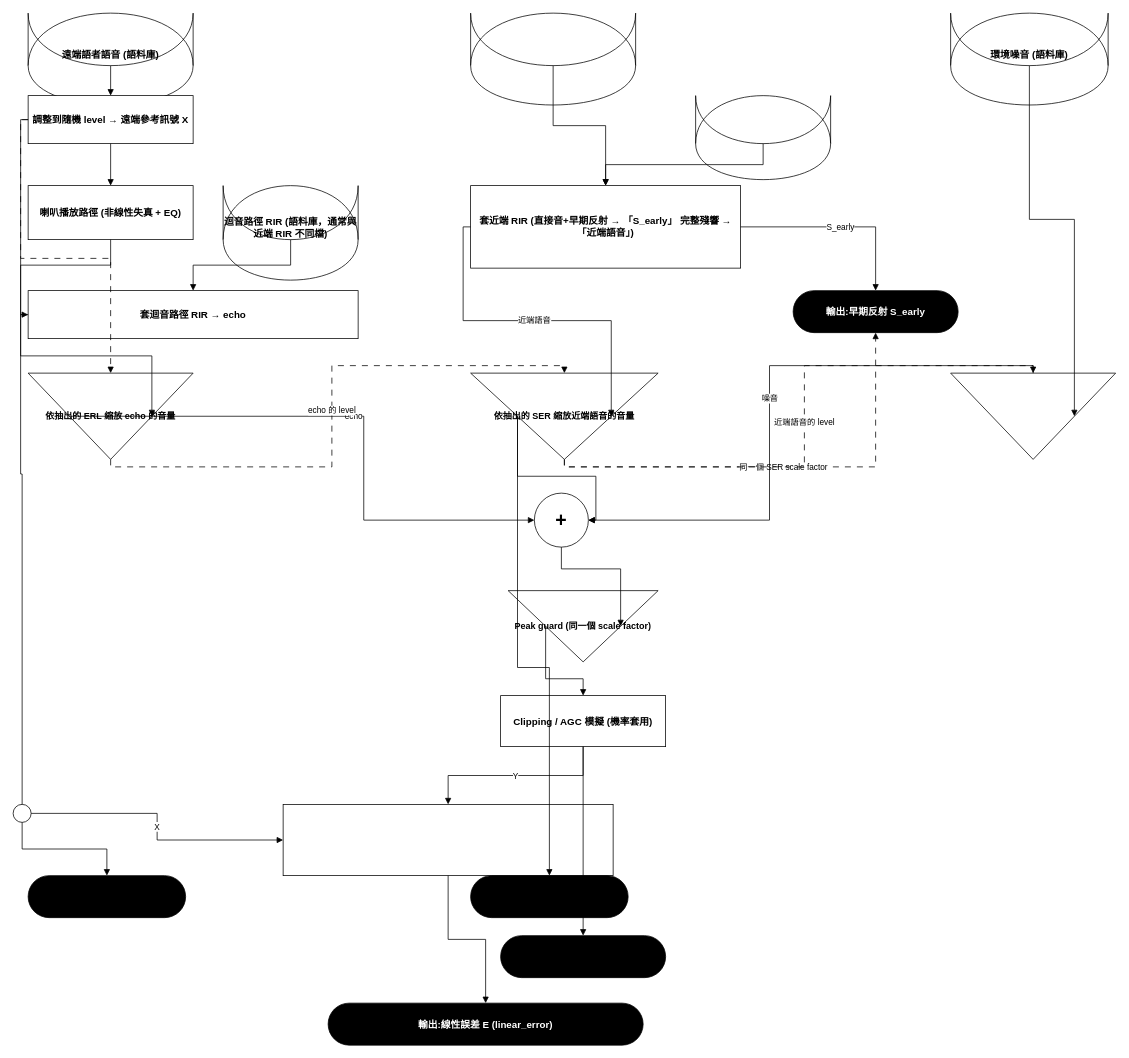
This 1129x1058 diagram has some shape labels left out. The centre of each missing label's shape, as x and y in pixels:
"AEC engine (拿掉 echo，估計 殘留 linear error)" belongs at [447,840].
"依抽出的 SNR 縮放噪音的音量" belongs at [1033,415].
"輸出:近端語音 S" belongs at [549,896].
"輸出:遠端參考 X" belongs at [106,896].
"輸出:麥克風訊號 Y" belongs at [583,956].
"近端 RIR (語料庫)" belongs at [763,119].
"近端語者語音 (語料庫)" belongs at [553,39].
